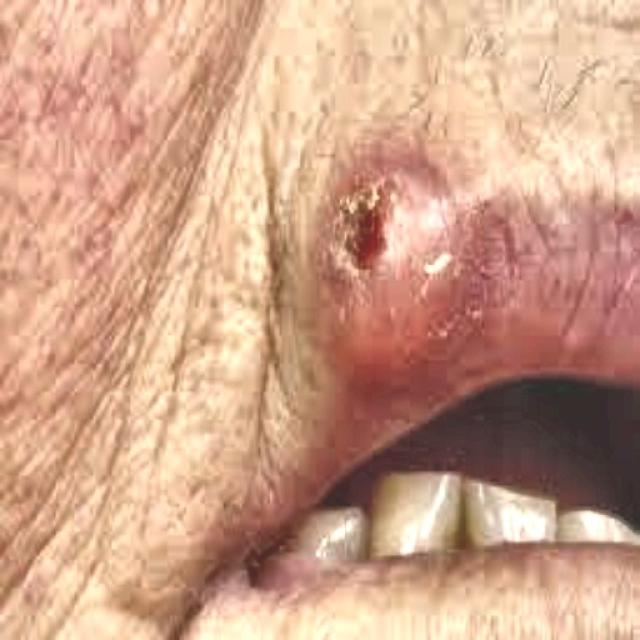cancer-detection: (311, 151, 499, 408)
processing_area: (230, 138, 639, 556)
